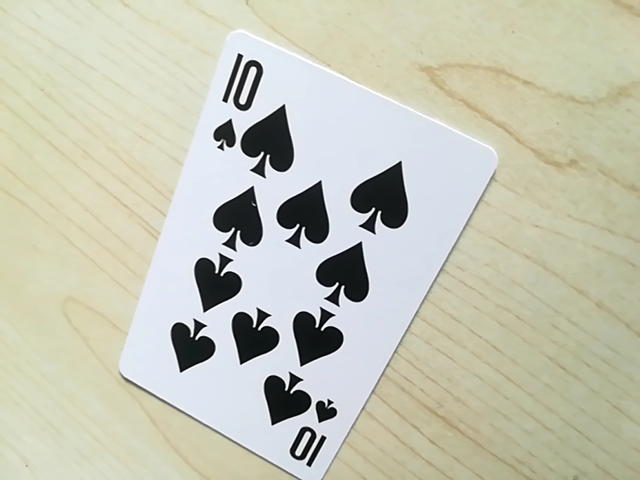ht 10: (202, 44, 274, 169), (276, 407, 342, 477)
